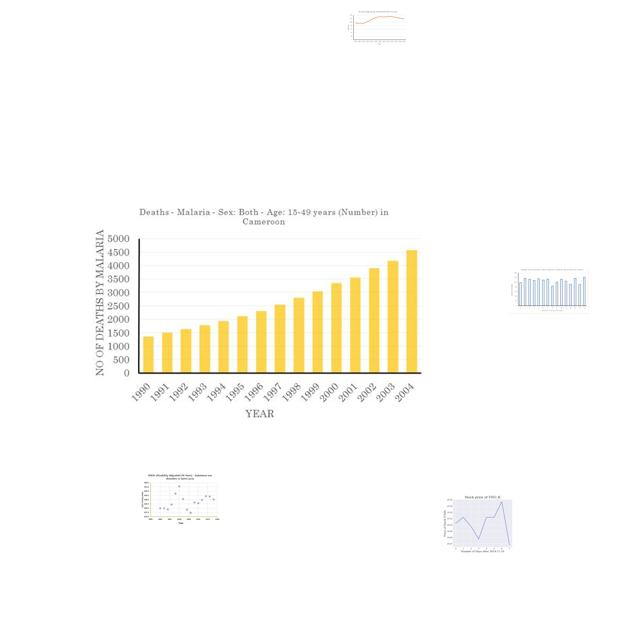Graph: (87, 203, 426, 422), (440, 492, 523, 554), (140, 473, 221, 525), (509, 267, 589, 314), (346, 10, 407, 45)
